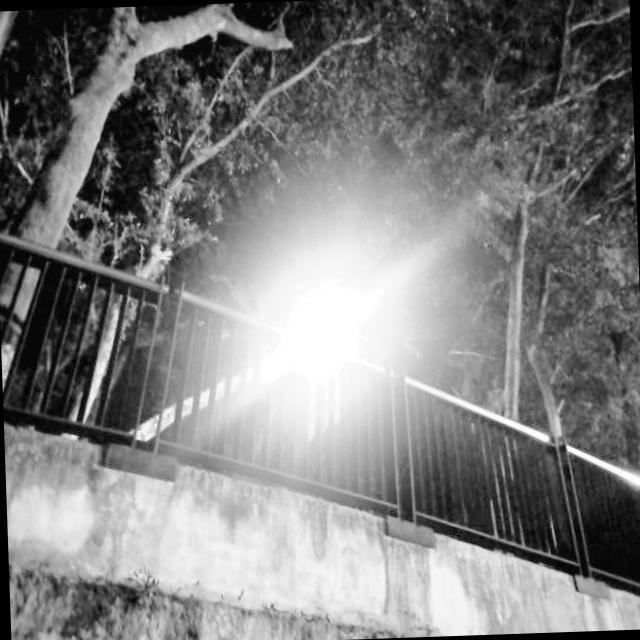Light: (288, 299, 368, 499)
Tree: (0, 2, 270, 407), (457, 12, 580, 547)
